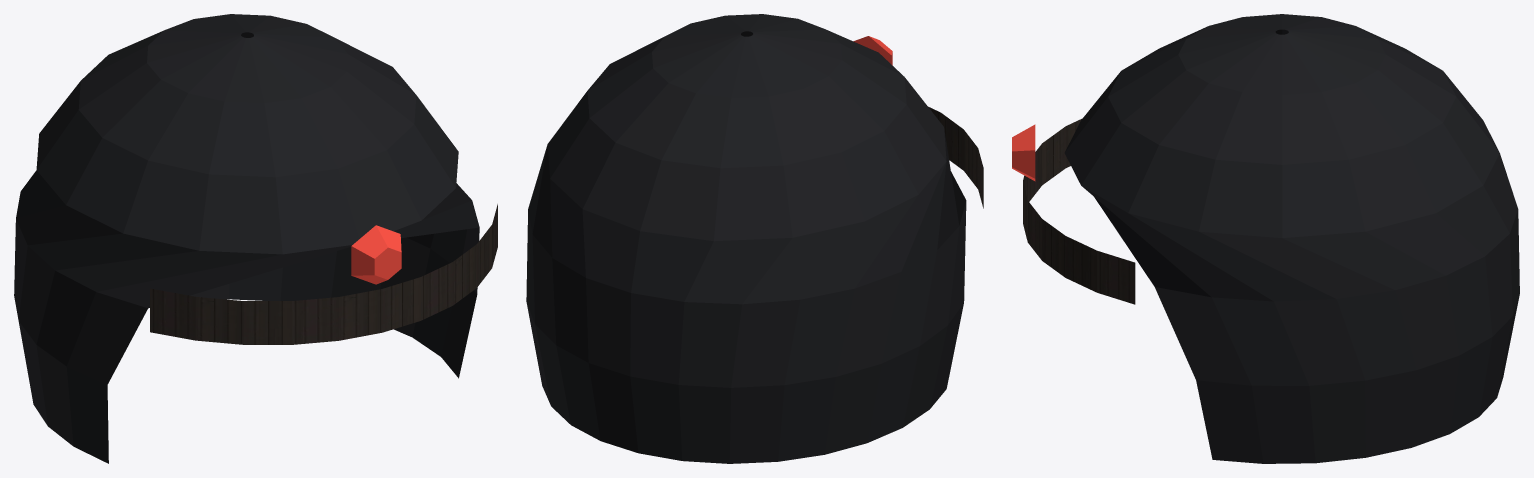
Rendered from eq_present_3_head.glb.
3 views of the same model, side by side, from view 1: azimuth 30°, elevation 25°; view 2: azimuth 150°, elevation 25°; view 3: azimuth 270°, elevation 25° (orthographic). The views are drawn at different scales.
Parts seen in each view (by area): view 1: eq_present_3_head; view 2: eq_present_3_head; view 3: eq_present_3_head.
Part boxes in pixels (x1,y1,x2,y2): eq_present_3_head: (14, 14, 497, 463); eq_present_3_head: (526, 14, 983, 463); eq_present_3_head: (1012, 14, 1519, 463).
Bounding box in the file's own units: 0.3047 × 0.2657 × 0.3538.
Materials: 3 (1 with a texture image).
